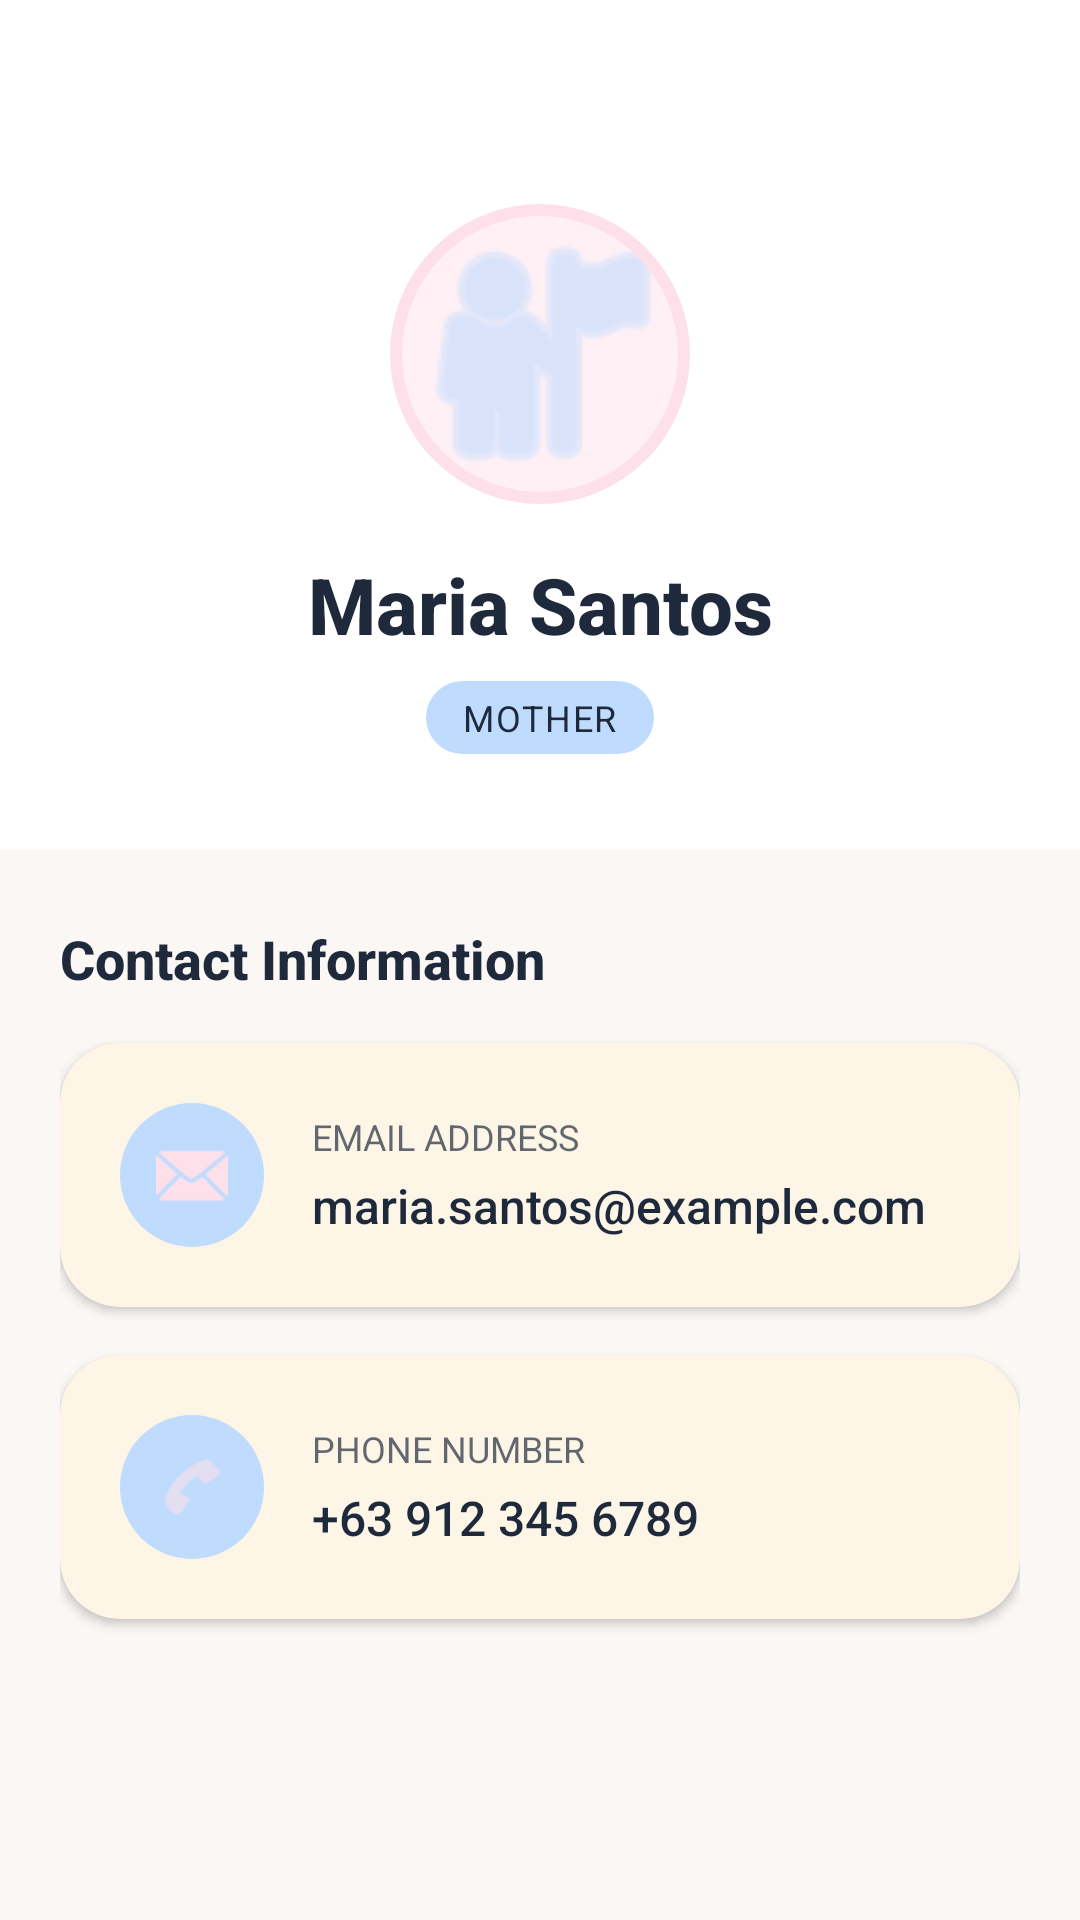

Locate icon controls on the screen. Image size 1080*1920, boxes as [x1, y1, x2, y2].
call: [165, 1460, 219, 1514]
myplaces: [390, 204, 690, 504]
